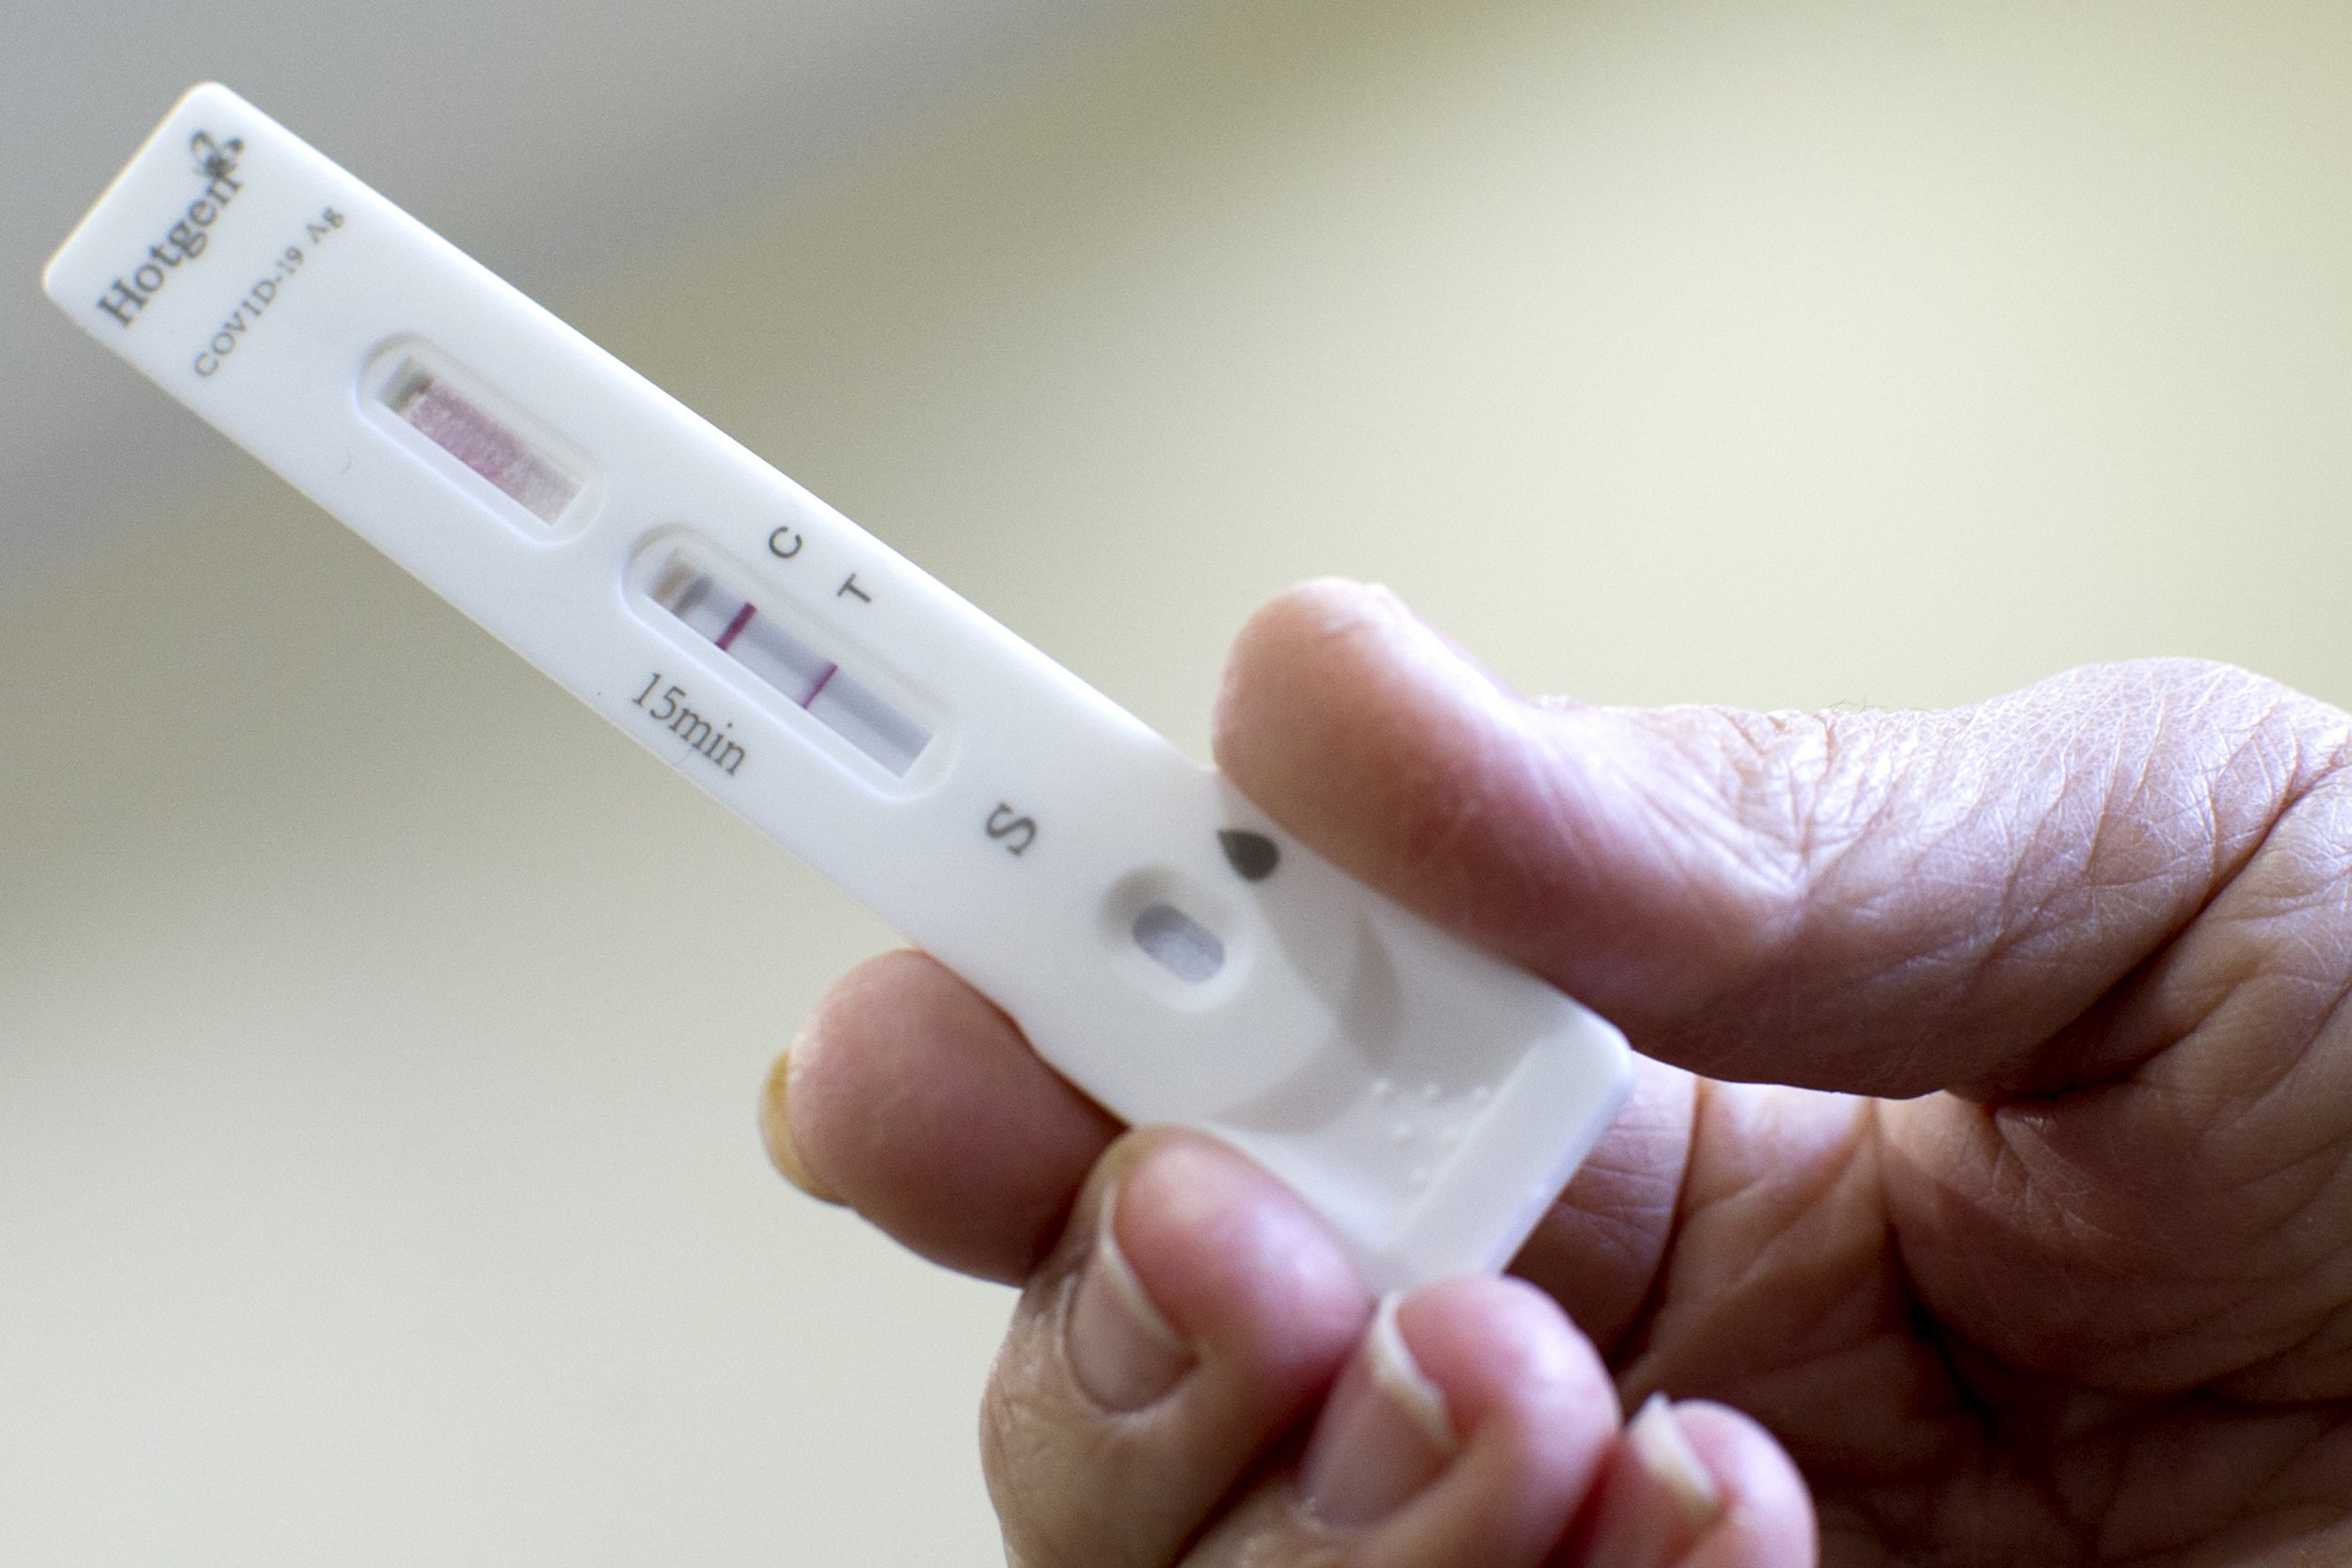positive: (630, 549, 927, 766)
